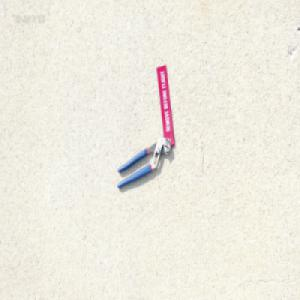Label: (156, 64, 175, 146)
Pliers: (116, 135, 171, 189)
